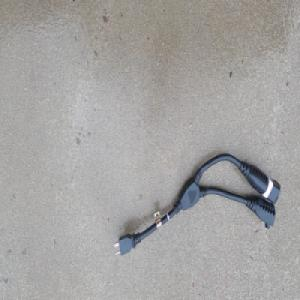Wire: (113, 153, 282, 259)
